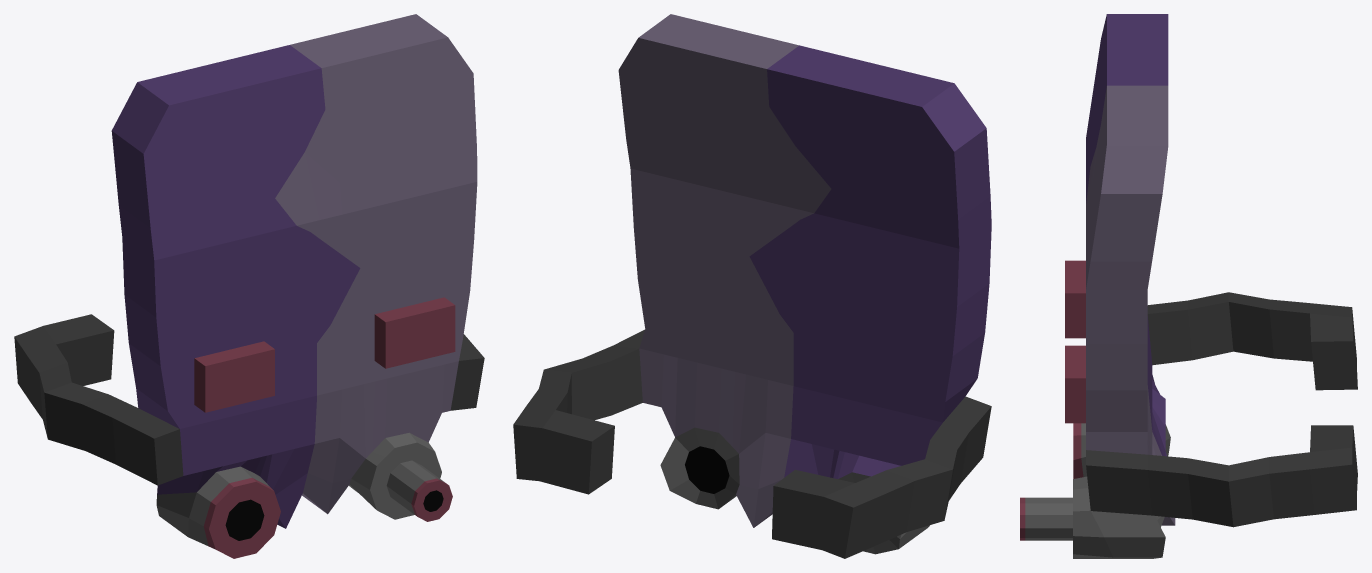
File: zumzum(Zumi mask2.0).fbx
3 renders of one model, left to right at view 1: azimuth 30°, elevation 25°; view 2: azimuth 150°, elevation 25°; view 3: azimuth 270°, elevation 25°, orthographic. The views are drawn at different scales.
Parts seen in each view (by area): view 1: Cylinder; view 2: Cylinder; view 3: Cylinder.
Part boxes in pixels (<box>): Cylinder: <box>14,14,484,558</box>; Cylinder: <box>513,14,991,558</box>; Cylinder: <box>1020,14,1357,558</box>.
Bounding box in the file's own units: 288 × 312 × 217.
